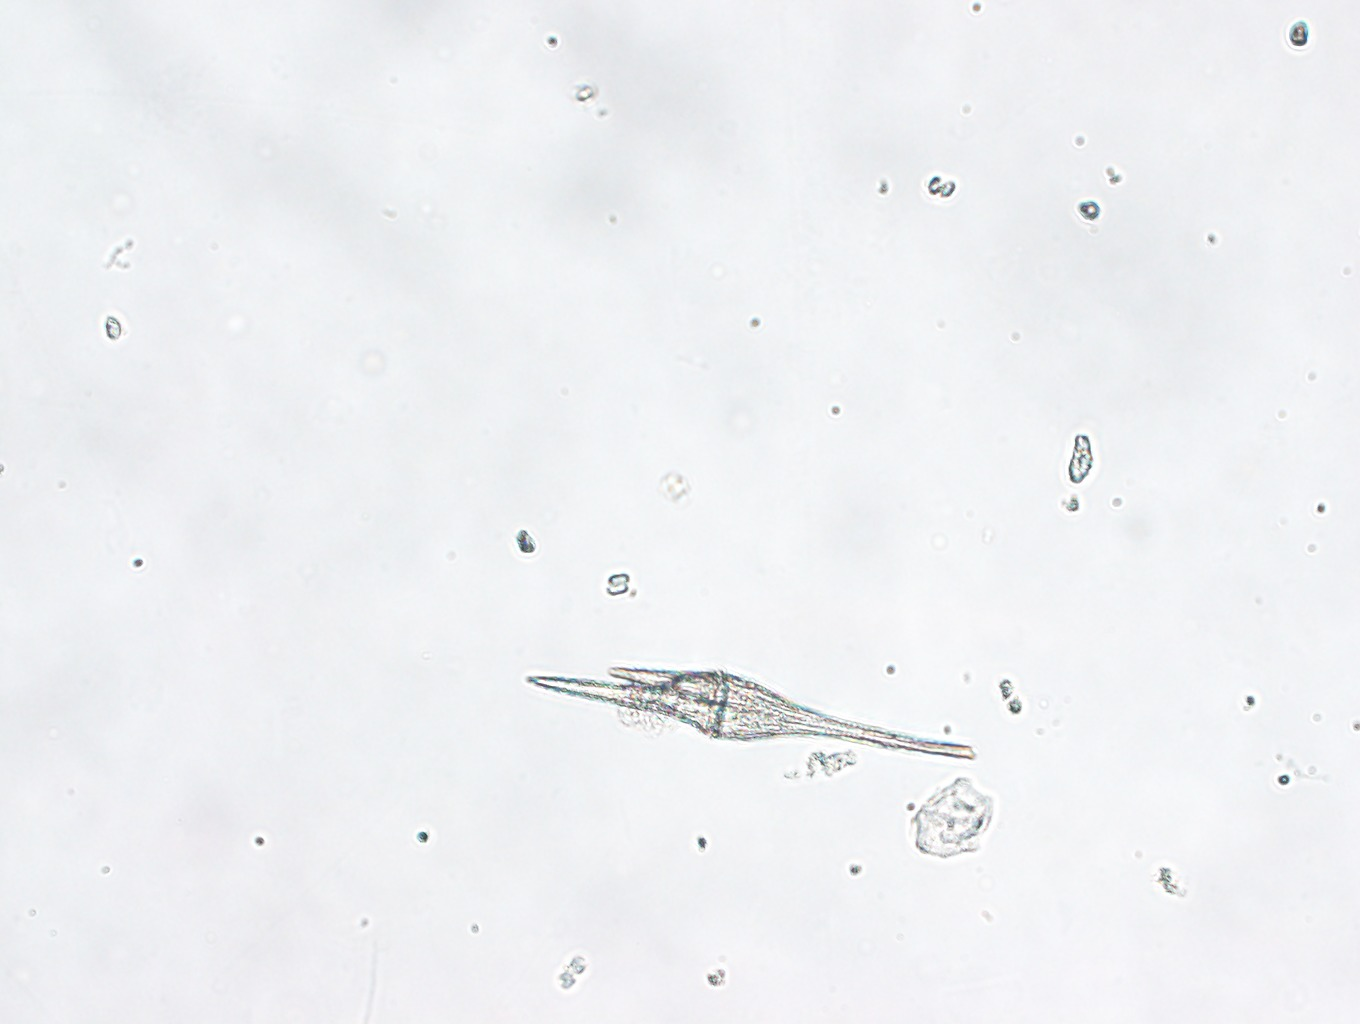ceratium furca: (518, 640, 979, 773)
